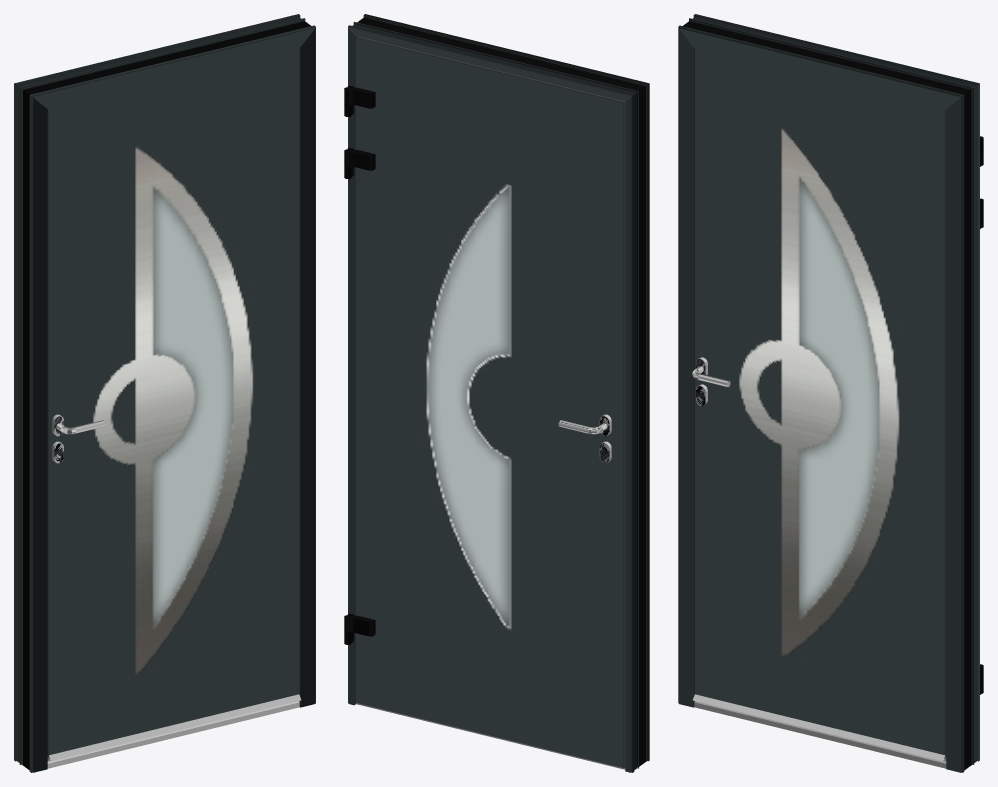
The picture shows the model from 3 angles, left to right: view 1: azimuth 30°, elevation 25°; view 2: azimuth 150°, elevation 25°; view 3: azimuth 330°, elevation 25°; orthographic projection.
Parts seen in each view (by area): view 1: ouvrant, 105; view 2: ouvrant, 105; view 3: ouvrant, 105.
Boxes of the visible parts, x1=… form: ouvrant: x1=47, y1=48, x2=301, y2=761; 105: x1=14, y1=14, x2=315, y2=772; ouvrant: x1=344, y1=36, x2=625, y2=768; 105: x1=344, y1=14, x2=649, y2=772; ouvrant: x1=693, y1=48, x2=983, y2=761; 105: x1=678, y1=14, x2=983, y2=772.
Size of the model in its own units: 96 by 218 by 24.64.
Materials: 1 (1 with a texture image).
